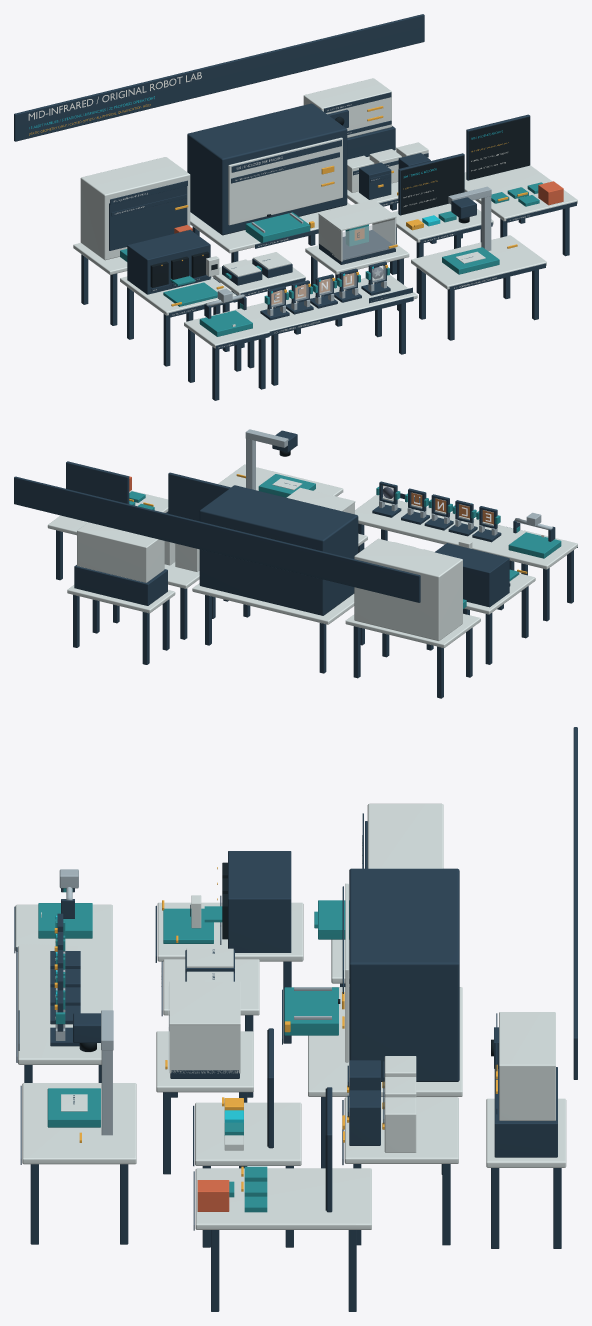
The model's file is midinfrared_lab.glb.
3 views of the same model, one above another, from view 1: azimuth 30°, elevation 25°; view 2: azimuth 150°, elevation 25°; view 3: azimuth 270°, elevation 25° (orthographic). The views are drawn at different scales.
Visible parts, largest first — view 1: scene.banner, optics.closed_enclosure, optics.closed_door, fabrication.closed_shell, fabrication.closed_guard, archive.console.screen, metrology.table.top, receiving.rack, timing.console.screen, diagnostic.sealed_shell, samples.table.top, archive.table.top (+26 smaller); view 2: optics.closed_enclosure, scene.banner, fabrication.closed_shell, diagnostic.sealed_shell, samples.table.top, receiving.rack, diagnostic.support_pedestal, timing.console.body, archive.console.body, optics.table.top, fabrication.table.top, transport.table.top (+22 smaller); view 3: optics.closed_enclosure, archive.table.top, samples.table.top, metrology.table.top, receiving.rack, diagnostic.sealed_shell, timing.table.top, fabrication.closed_shell, instruments.table.top, optics.table.top, dynamic.guard_side.001, dynamic.guard_top (+27 smaller).
Part boxes in pixels (box(x1,y1,x2,y2)): scene.banner: box(14, 14, 424, 141); optics.closed_enclosure: box(187, 103, 347, 235); optics.closed_door: box(228, 137, 342, 225); fabrication.closed_shell: box(80, 157, 190, 260); fabrication.closed_guard: box(109, 186, 187, 250); archive.console.screen: box(468, 116, 529, 179); metrology.table.top: box(411, 235, 546, 289); receiving.rack: box(127, 230, 210, 294); timing.console.screen: box(401, 155, 464, 214); diagnostic.sealed_shell: box(303, 78, 391, 137); samples.table.top: box(237, 274, 417, 331); archive.table.top: box(464, 165, 577, 221); optics.closed_enclosure: box(199, 485, 358, 615); scene.banner: box(14, 476, 420, 602); fabrication.closed_shell: box(354, 538, 462, 641); diagnostic.sealed_shell: box(77, 522, 164, 582); samples.table.top: box(355, 495, 524, 554); receiving.rack: box(435, 543, 509, 607); diagnostic.support_pedestal: box(74, 565, 167, 605); timing.console.body: box(168, 472, 230, 521); archive.console.body: box(66, 461, 129, 503); optics.table.top: box(192, 583, 354, 624); fabrication.table.top: box(345, 613, 480, 647); transport.table.top: box(493, 530, 577, 569); optics.closed_enclosure: box(349, 868, 459, 1081); archive.table.top: box(195, 1168, 371, 1229); samples.table.top: box(18, 944, 112, 1064); metrology.table.top: box(22, 1083, 136, 1164); receiving.rack: box(228, 851, 291, 952); diagnostic.sealed_shell: box(499, 1012, 555, 1120); timing.table.top: box(195, 1102, 301, 1165); fabrication.closed_shell: box(367, 803, 443, 868); instruments.table.top: box(344, 1097, 458, 1163); optics.table.top: box(308, 987, 462, 1096); dynamic.guard_side.001: box(169, 1026, 240, 1073); dynamic.guard_top: box(169, 981, 240, 1025).
Size of the model in its own units: 6.26 by 2.19 by 4.44.
